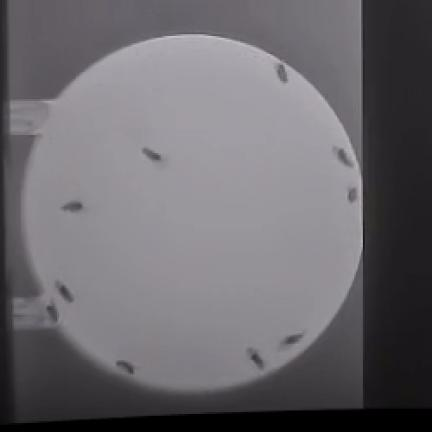fly: (248, 348, 266, 370), (280, 333, 304, 349), (334, 148, 354, 167), (56, 281, 74, 302), (142, 148, 162, 161), (116, 360, 134, 374), (47, 301, 58, 323), (63, 200, 82, 212), (277, 63, 288, 82), (348, 188, 359, 203)
